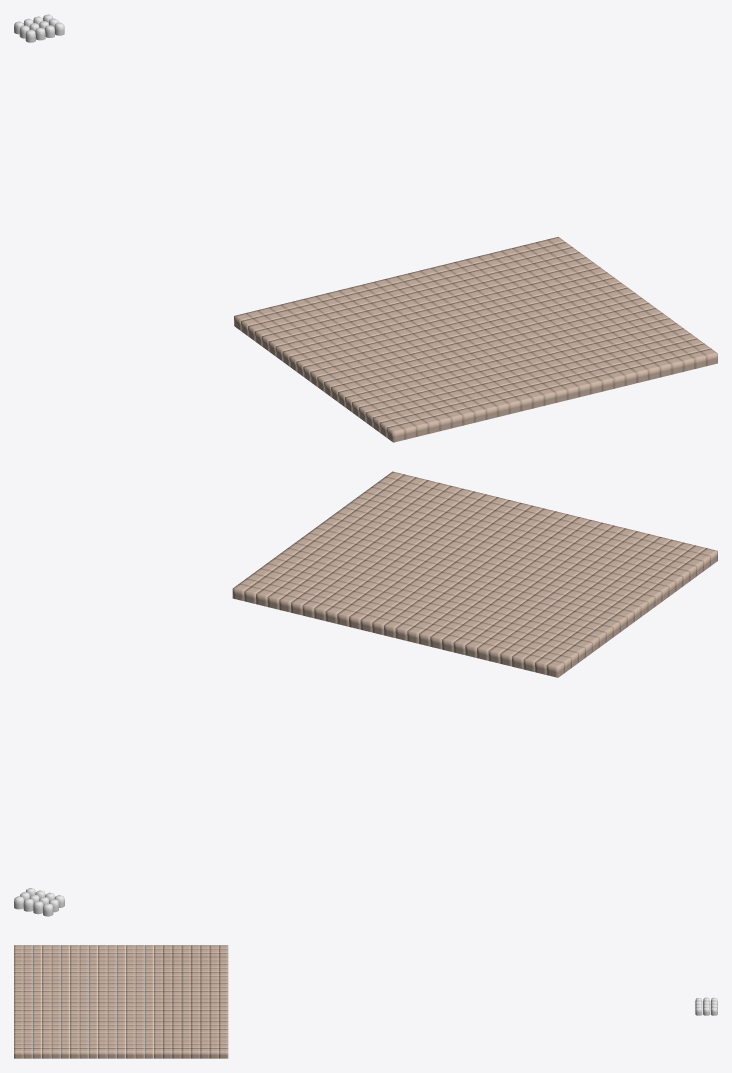
File: streetpatch2.fbx
3 renders of one model, top to bottom at view 1: azimuth 30°, elevation 25°; view 2: azimuth 150°, elevation 25°; view 3: azimuth 270°, elevation 25°, orthographic. The views are drawn at different scales.
Parts seen in each view (by area): view 1: square_streetpoatch, streetpatch2; view 2: square_streetpoatch, streetpatch2; view 3: square_streetpoatch, streetpatch2.
Boxes of the visible parts, left/top/right/bottom form: square_streetpoatch: left=234, top=237, right=717, bottom=442; streetpatch2: left=14, top=14, right=64, bottom=42; square_streetpoatch: left=232, top=471, right=717, bottom=677; streetpatch2: left=14, top=888, right=64, bottom=916; square_streetpoatch: left=14, top=945, right=228, bottom=1058; streetpatch2: left=695, top=997, right=717, bottom=1015.
Bounding box in the file's own units: 675 × 1888 × 33.5.
